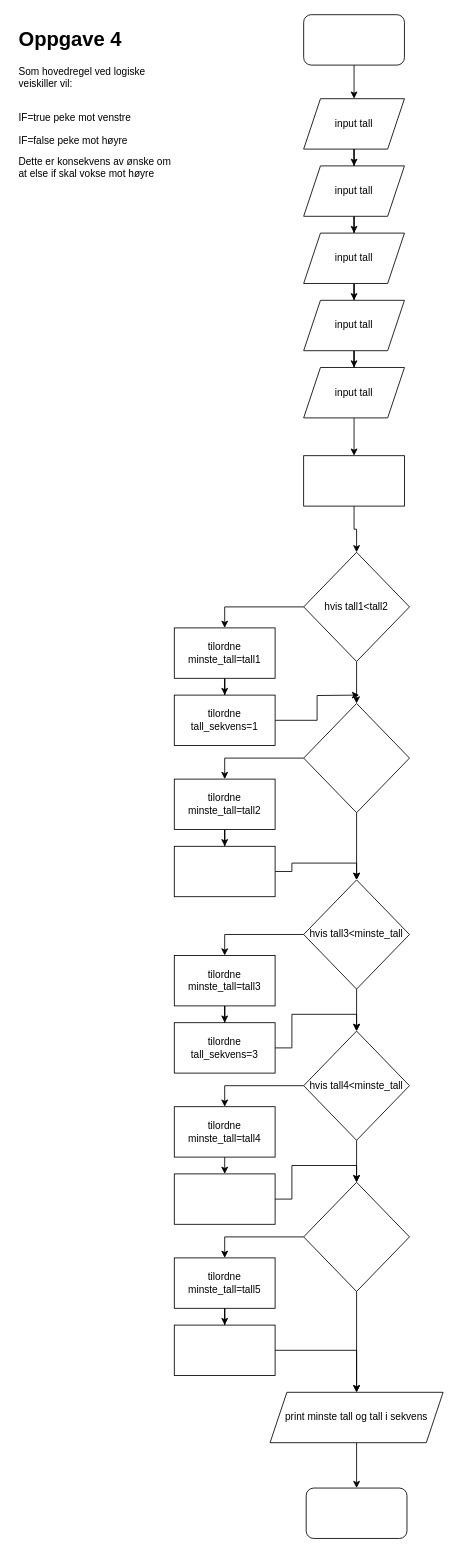
Some shapes in this 458 by 1553 pixel diagram are drawn without their labels. Here are the shapes that lost their labels. From the top down, the box of each, then its label:
(303, 14, 404, 65): start
(303, 455, 404, 506): tilordne minste_tall som stort tall for sammenlignings grunnlag
(303, 703, 410, 813): hvis tall2<minste_tall
(173, 845, 275, 897): tilordne tall_sekvens=2
(173, 1173, 275, 1224): tilordne tall_sekvens=4
(303, 1181, 410, 1292): hvis tall5<minste_tall
(173, 1324, 275, 1376): tilordne tall_sekvens=5
(305, 1487, 407, 1538): fin
